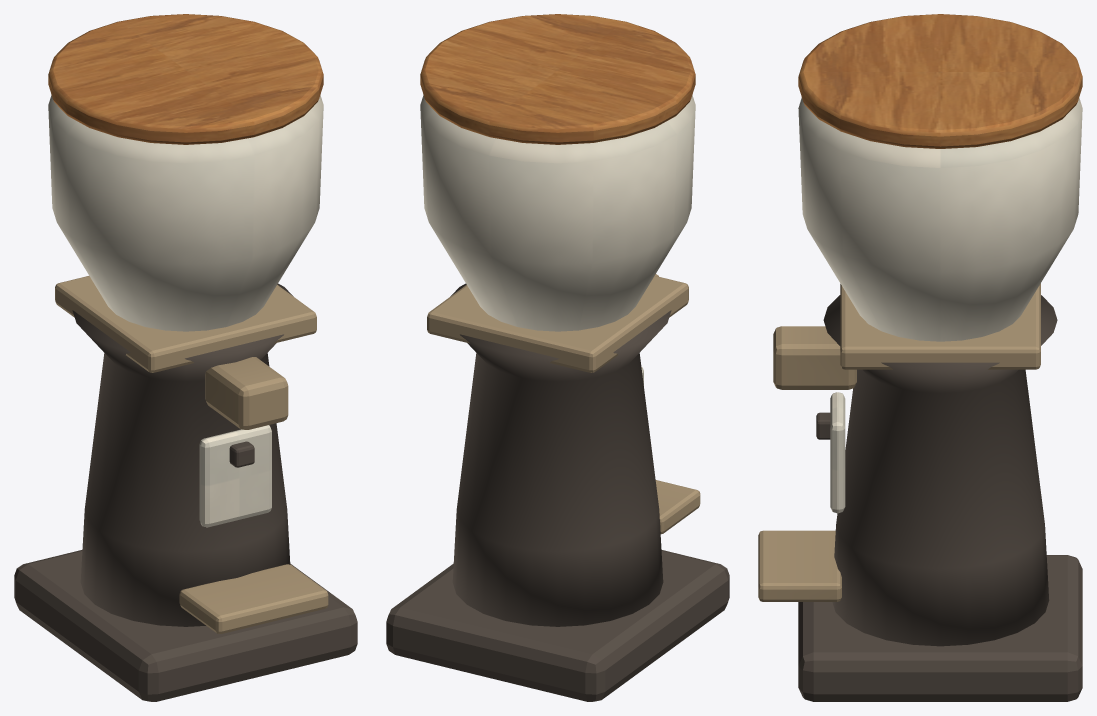
Rendered from WC_CAFE_Grinder_A.glb.
3 renders of one model, left to right at view 1: azimuth 30°, elevation 25°; view 2: azimuth 150°, elevation 25°; view 3: azimuth 270°, elevation 25°, orthographic. The views are drawn at different scales.
Visible parts, largest first — view 1: WC_CAFE_Grinder_A_HeroServiceMesh; view 2: WC_CAFE_Grinder_A_HeroServiceMesh; view 3: WC_CAFE_Grinder_A_HeroServiceMesh.
Boxes of the visible parts, box(x1,y1,x2,y2) form: WC_CAFE_Grinder_A_HeroServiceMesh: box(14, 14, 357, 701); WC_CAFE_Grinder_A_HeroServiceMesh: box(386, 14, 729, 701); WC_CAFE_Grinder_A_HeroServiceMesh: box(758, 14, 1082, 701).
Size of the model in its own units: 0.34 by 0.767 by 0.388.
5 materials, 3 textured.
